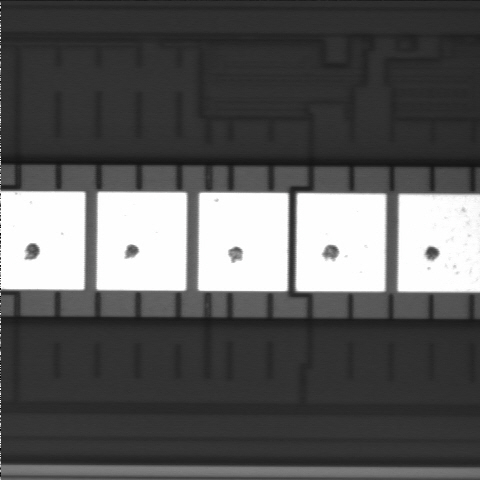pad: (97, 192, 187, 291), (198, 193, 288, 291), (296, 193, 386, 291)
